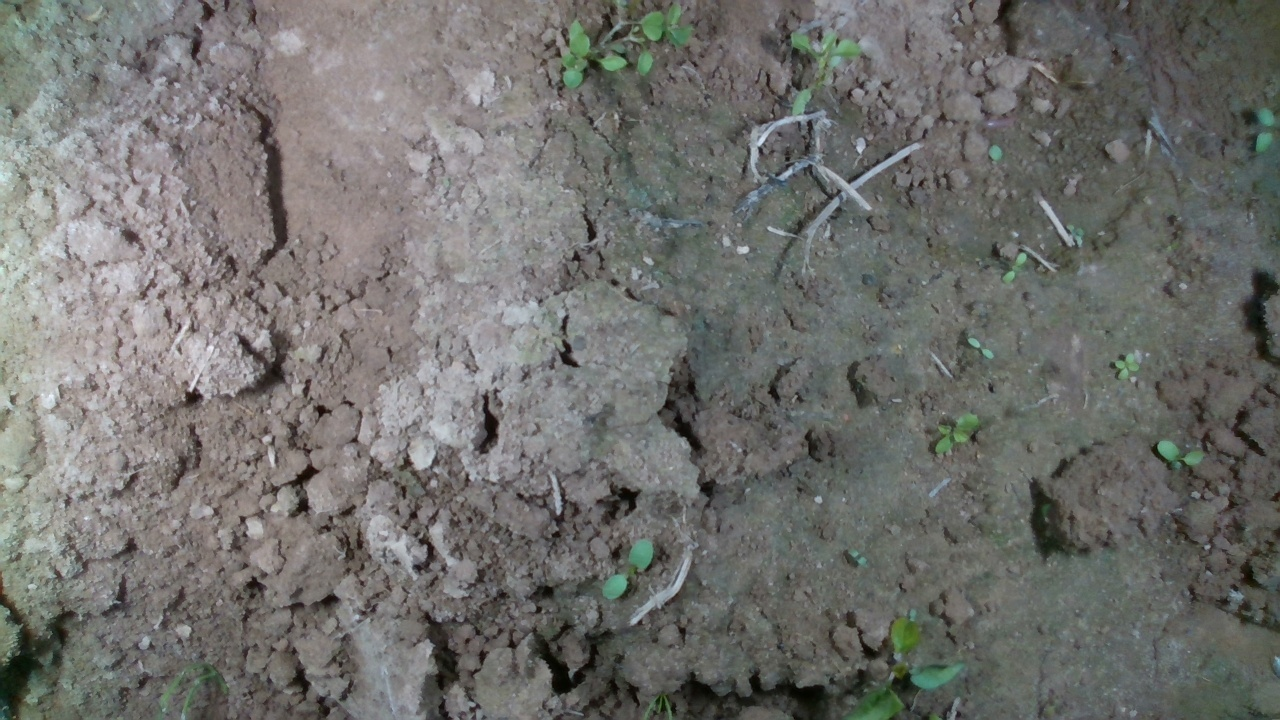weed: (600, 537, 655, 601), (933, 409, 979, 455), (1155, 438, 1205, 465), (1251, 104, 1276, 156), (1113, 350, 1141, 381), (965, 335, 995, 360)
